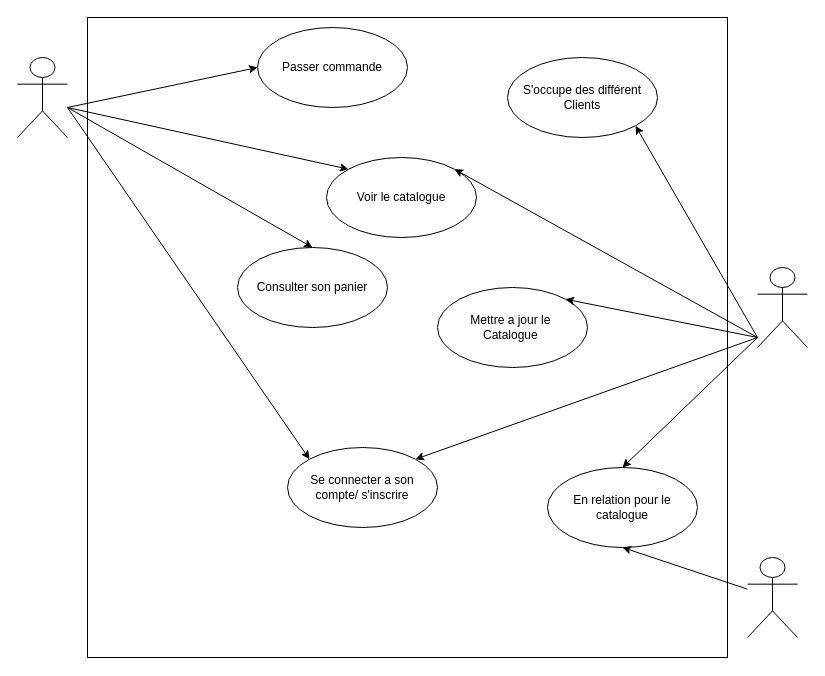
This 825x676 diagram has some shape labels left out. Here are the shapes that lost their labels. From the top down, the box of each, then its label:
(16, 56, 68, 138): Client
(756, 266, 808, 348): Employer
(746, 556, 798, 638): Fournisseur
